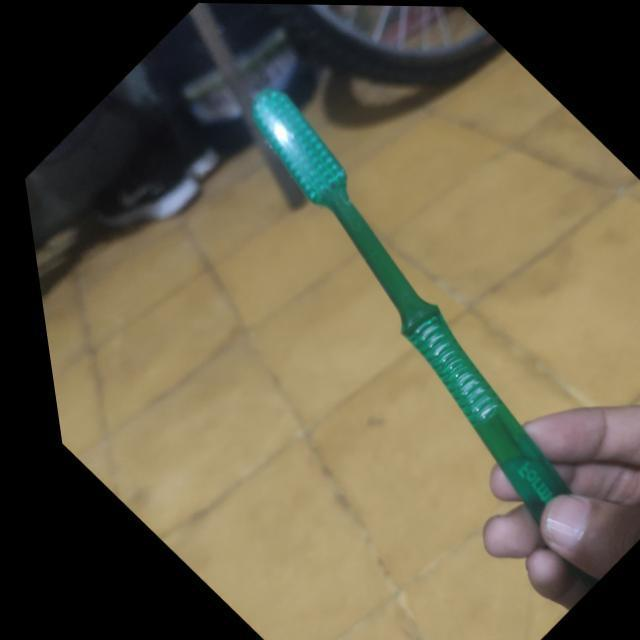toothbrush: (126, 19, 640, 586)
